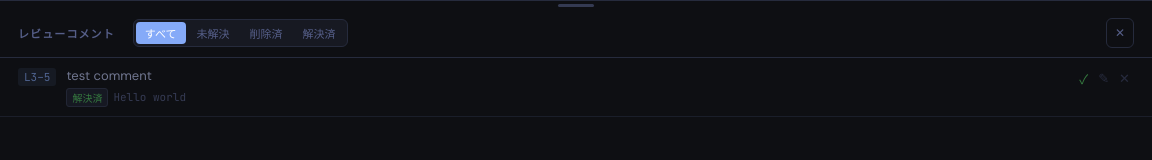
CommentsPanel › フィルタ（すべて / 未解決 / 削除済 / 解決済） › フィルタで該当0件のときフィルタ専用の空メッセージが出る
Click the button with test id "filter-open".
click(213, 33)  # box [188, 22, 239, 44]
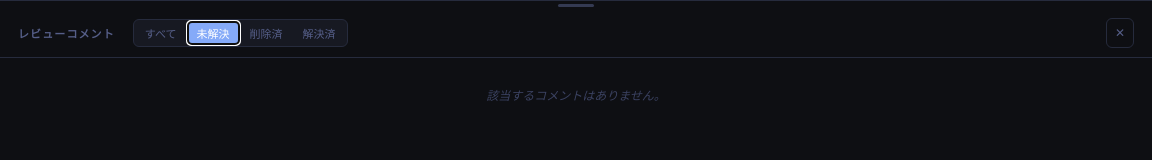
Check: the list item with test id "comment-item" is gone
Check: the list item with test id "no-comments" is shown, box [486, 88, 666, 104]
